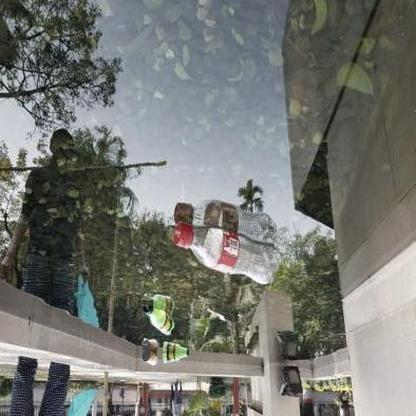can: (141, 349, 158, 367)
plastic bottle: (173, 221, 278, 285), (143, 306, 174, 335), (160, 342, 191, 363)
